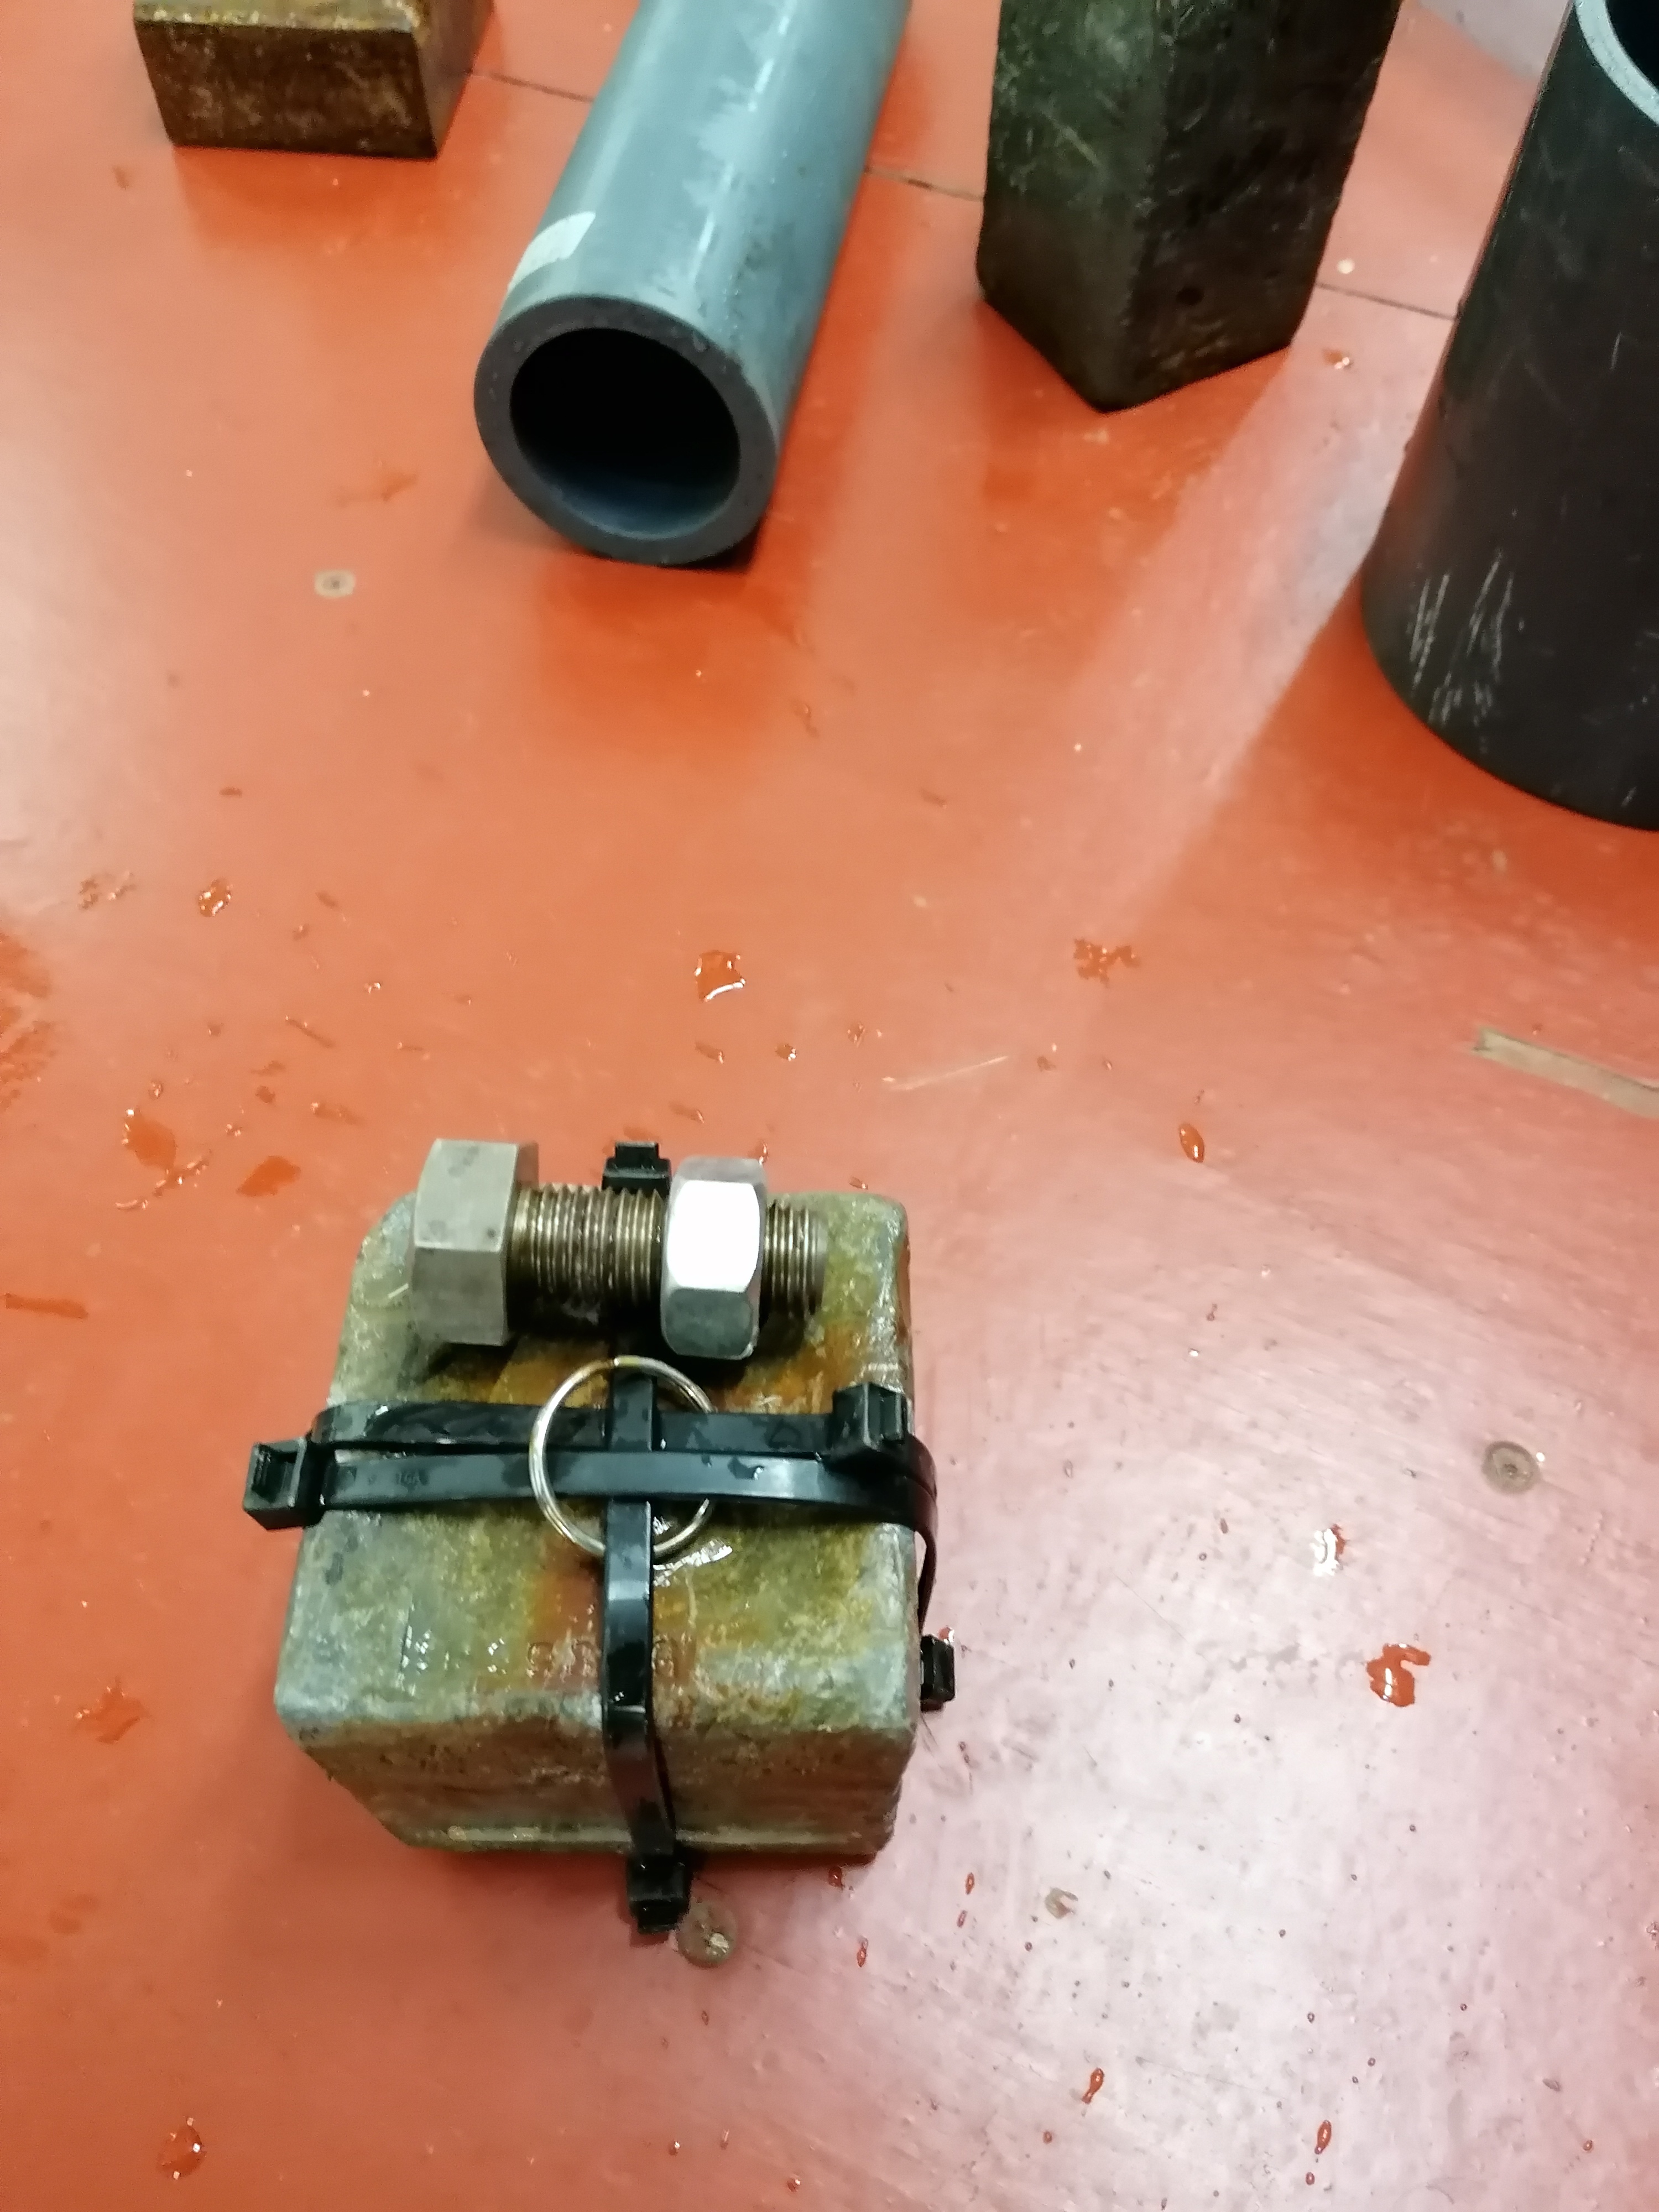bolt: (396, 1137, 826, 1360)
led_block: (246, 1143, 953, 1942), (969, 0, 1401, 413), (134, 0, 484, 162)
nut: (660, 1150, 781, 1374)
pipe: (474, 0, 913, 564), (1359, 0, 1657, 831)
